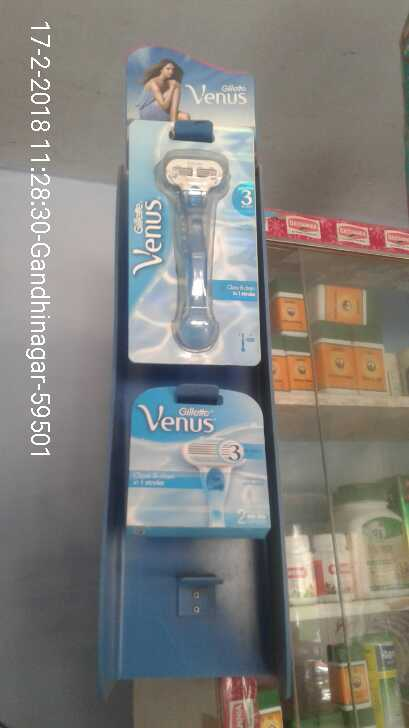venus: (122, 111, 269, 369), (127, 379, 265, 539)
